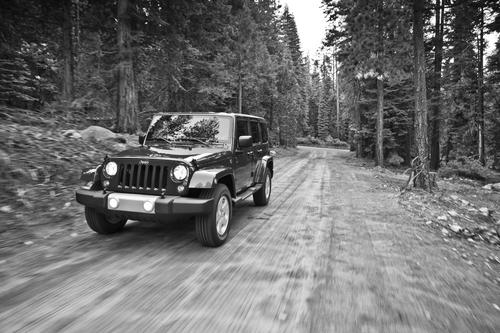car: (73, 105, 282, 256)
